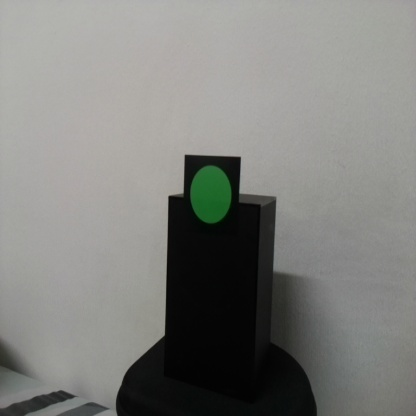id_5: (184, 155, 241, 242)
